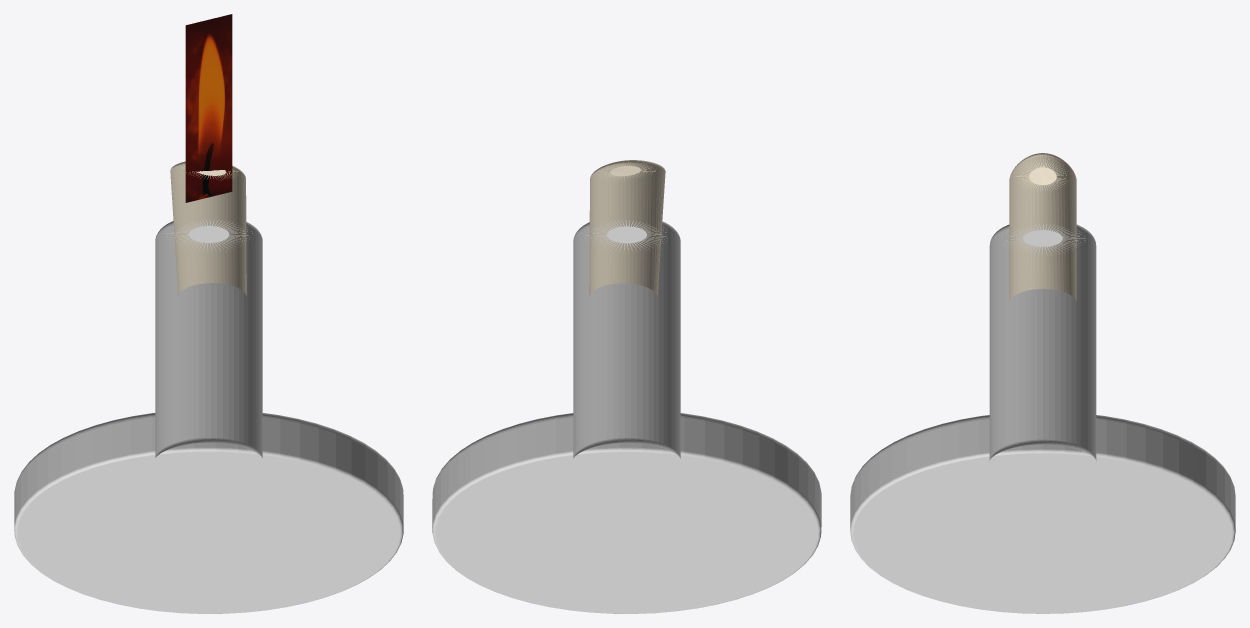
File: Candlestick.glb
3 views of the same model, side by side, from view 1: azimuth 30°, elevation 25°; view 2: azimuth 150°, elevation 25°; view 3: azimuth 270°, elevation 25° (orthographic).
Visible parts, largest first — view 1: Candlestic, Plane002, candle; view 2: Candlestic, candle; view 3: Candlestic, candle.
Part boxes in pixels (x1,y1,x2,y2): Candlestic: [14, 219, 403, 613]; Plane002: [185, 14, 232, 202]; candle: [170, 161, 246, 295]; Candlestic: [432, 220, 821, 613]; candle: [589, 160, 665, 296]; Candlestic: [850, 224, 1235, 613]; candle: [1009, 153, 1076, 301].
Size of the model in its own units: 115 by 167 by 115.
Materials: 3 (1 with a texture image).
